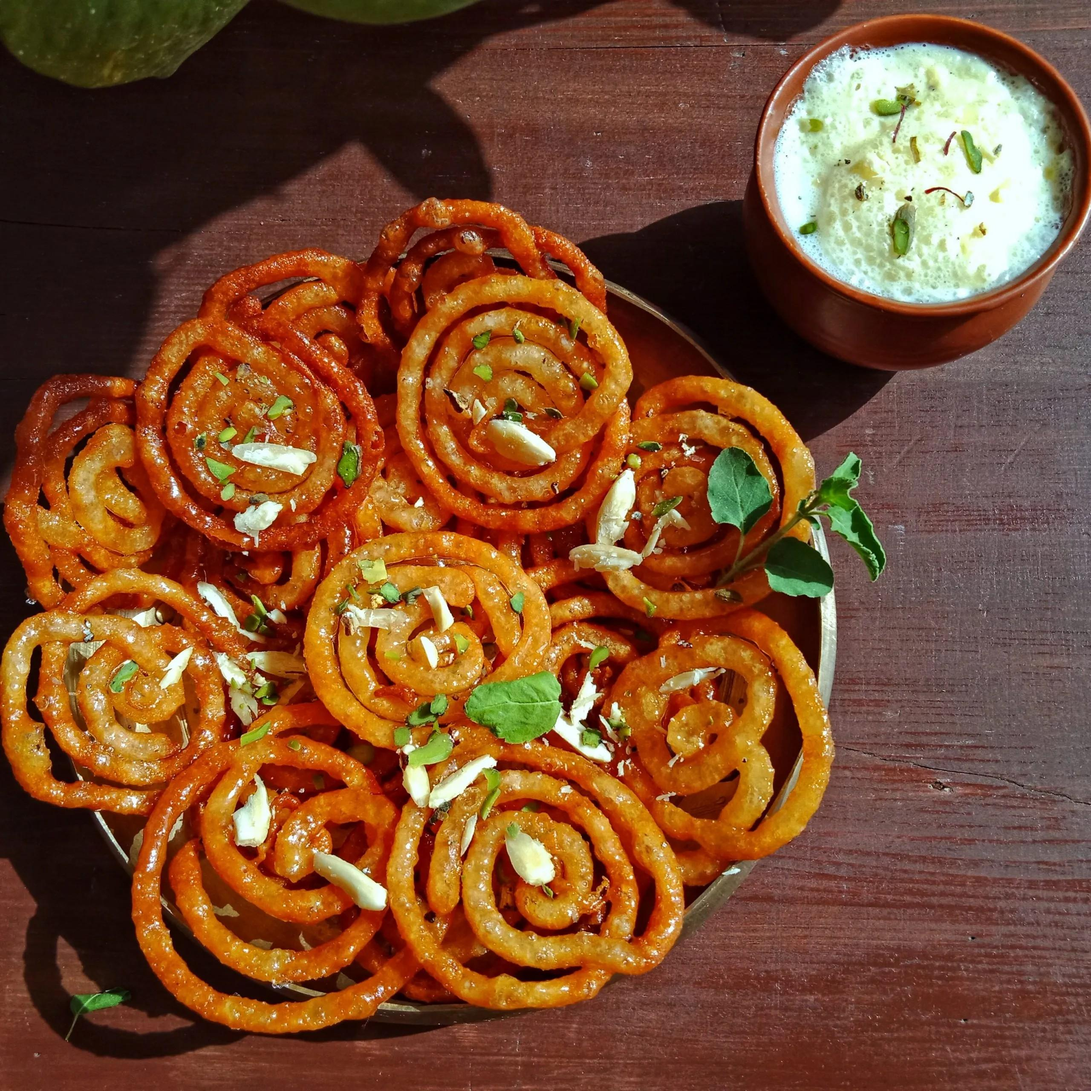Jalebi: (0, 194, 830, 1042)
